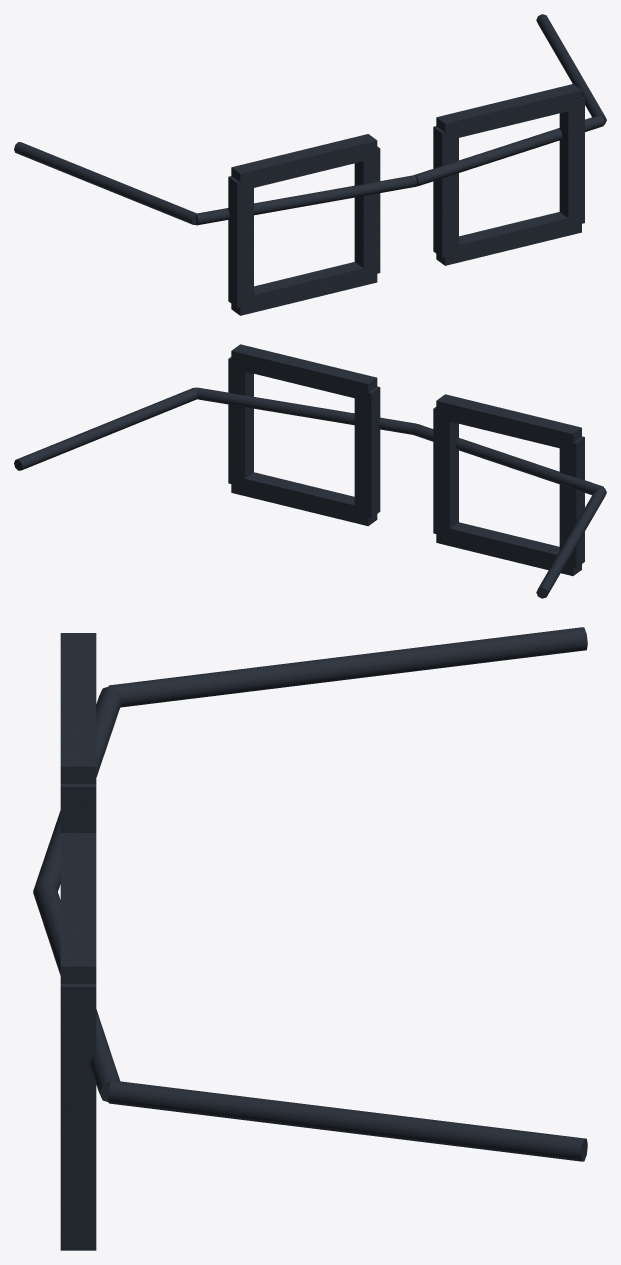
The model's file is reference_square_glasses.gltf.
3 views of the same model, one above another, from view 1: azimuth 30°, elevation 25°; view 2: azimuth 150°, elevation 25°; view 3: azimuth 270°, elevation 25° (orthographic). The views are drawn at different scales.
Parts seen in each view (by area): view 1: Square Glasses; view 2: Square Glasses; view 3: Square Glasses.
Part boxes in pixels (x1,y1,x2,y2): Square Glasses: (14,14,606,315); Square Glasses: (14,344,606,598); Square Glasses: (33,627,587,1250).
Bounding box in the file's own units: 0.4486 × 0.114 × 0.2017.
1 material, 1 textured.
